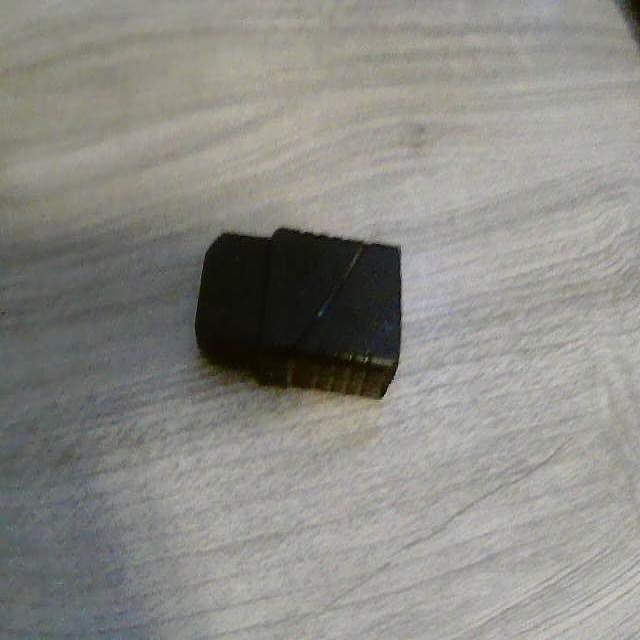borracha: (184, 210, 440, 407)
